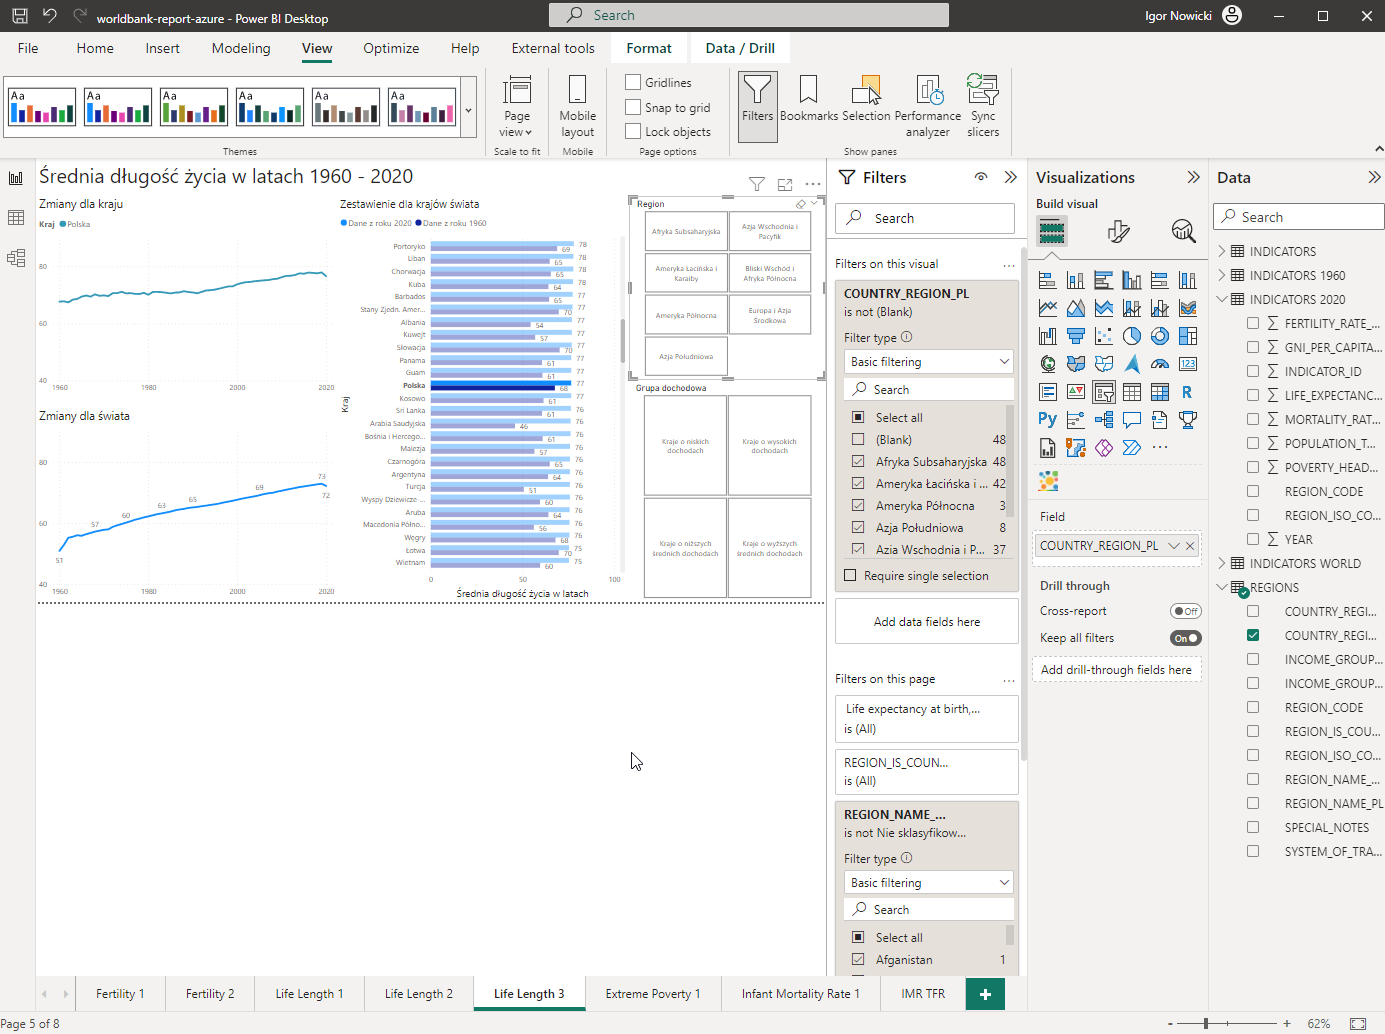

This screenshot's page, from the dashboard's own definition file:
{"tool":"powerbi","page":{"name":"Life Length 3","canvas":[1280,720],"ordinal":4},"visuals":[{"type":"lineChart","title":"Zmiany dla świata","fields":{"Y":["Sum(INDICATORS WORLD.LIFE_EXPECTANCY_AT_BIRTH_TOTAL_YEARS)"],"Category":["INDICATORS WORLD.YEAR"]},"box":[0,405.4,488.2,314.5],"z":0},{"type":"slicer","fields":{"Values":["REGIONS.COUNTRY_REGION_PL"]},"box":[960.8,61.6,319.2,298.1],"z":1000},{"type":"clusteredBarChart","title":"Zestawienie dla krajów świata","fields":{"Category":["REGIONS.REGION_NAME_PL"],"Y":["Sum(INDICATORS 2020.LIFE_EXPECTANCY_AT_BIRTH_TOTAL_YEARS)","Sum(INDICATORS 1960.LIFE_EXPECTANCY_AT_BIRTH_TOTAL_YEARS)"]},"box":[488.9,62.2,470.4,658],"z":2000},{"type":"slicer","fields":{"Values":["REGIONS.INCOME_GROUP_PL"]},"box":[959.2,359.7,320.8,359.7],"z":3000},{"type":"textbox","box":[0,0,1280,62.3],"z":4000},{"type":"lineChart","title":"Zmiany dla kraju","fields":{"Category":["INDICATORS.YEAR"],"Series":["REGIONS.REGION_NAME_PL"],"Y":["Sum(INDICATORS.LIFE_EXPECTANCY_AT_BIRTH_TOTAL_YEARS)"]},"box":[0,62,488.2,329.4],"z":5000}]}

Visuals, with their boxes on the page's 1280x720 design canvas (x1, y1, x2, y2). These are canvas units, not pixel positions in the 1385x1034 screenshot, which may show the page scaled, cropped or inside an application window:
"Zmiany dla świata" lineChart: {"left": 0, "top": 405, "right": 488, "bottom": 720}
slicer - REGIONS.COUNTRY_REGION_PL: {"left": 961, "top": 62, "right": 1280, "bottom": 360}
"Zestawienie dla krajów świata" clusteredBarChart: {"left": 489, "top": 62, "right": 959, "bottom": 720}
slicer - REGIONS.INCOME_GROUP_PL: {"left": 959, "top": 360, "right": 1280, "bottom": 719}
textbox: {"left": 0, "top": 0, "right": 1280, "bottom": 62}
"Zmiany dla kraju" lineChart: {"left": 0, "top": 62, "right": 488, "bottom": 391}
